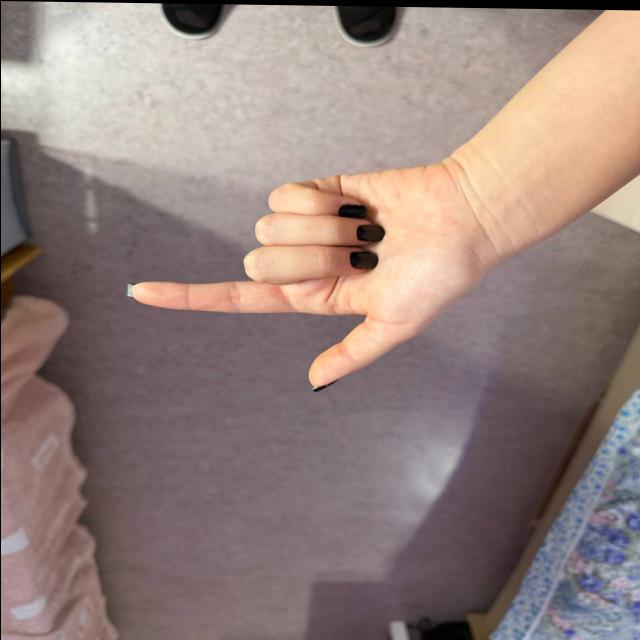g: (122, 170, 484, 402)
